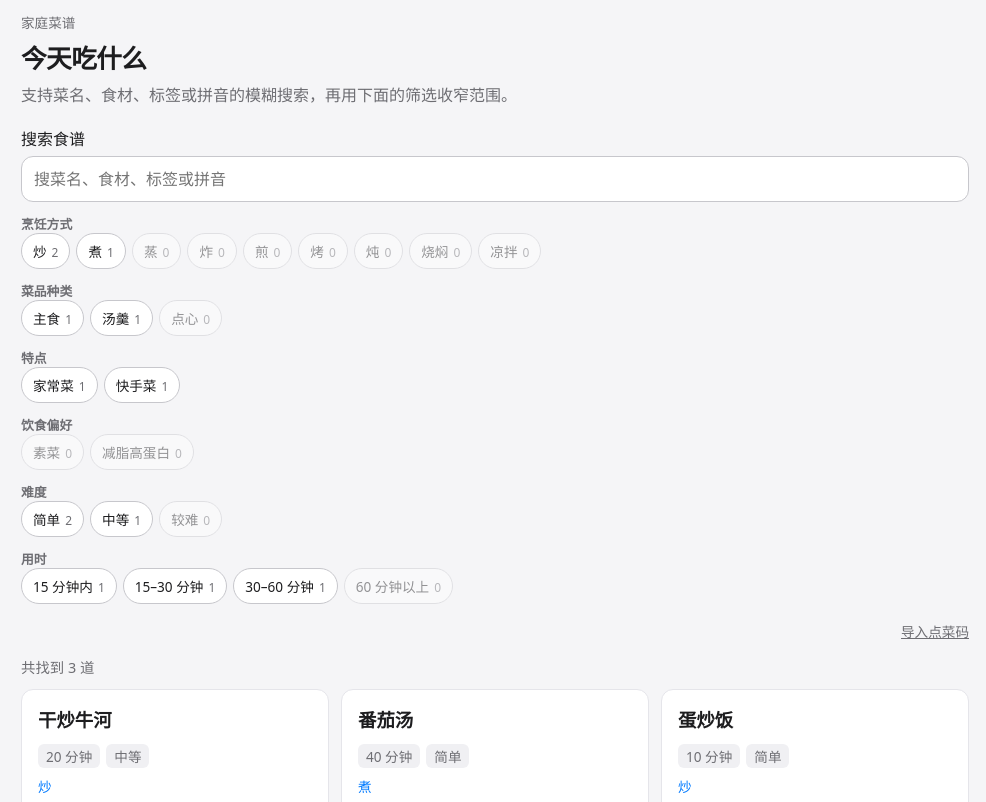
Test case: RecipeBrowser › filters by difficulty and clears everything
Click the button "简单2" at (53, 519), box [21, 501, 84, 537]
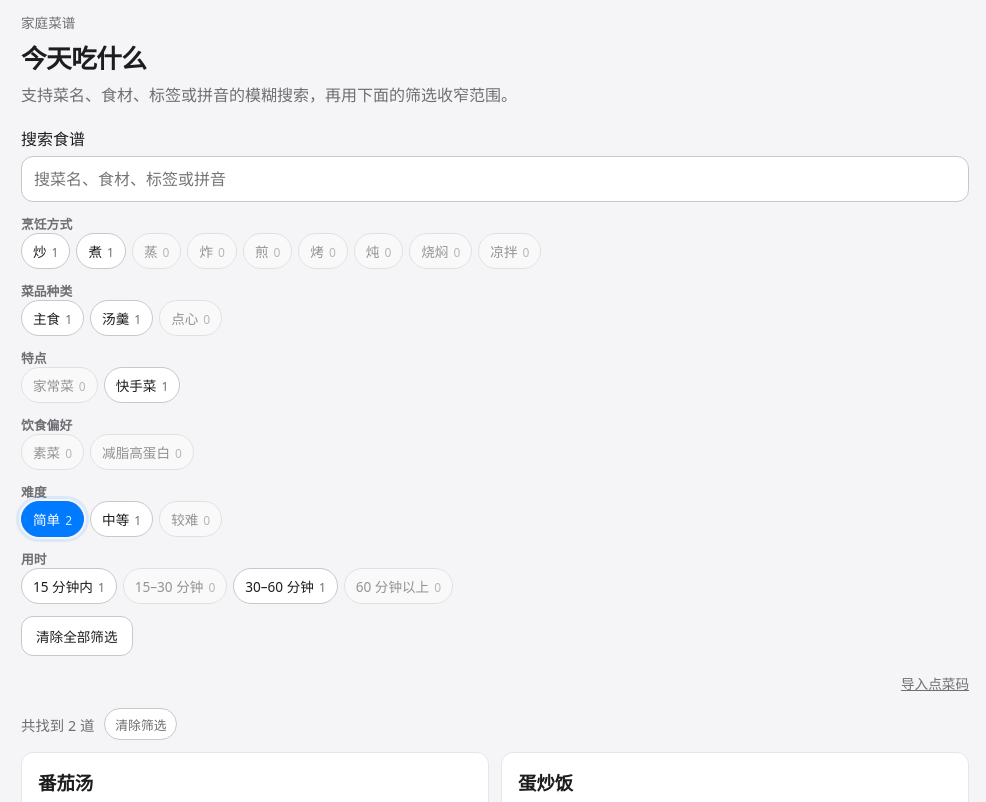
Expected: the heading "番茄汤" is shown, [38, 770, 93, 795]
Expected: the link "干炒牛河" is gone
Click the button "清除全部筛选" at (77, 636), box [21, 616, 133, 656]
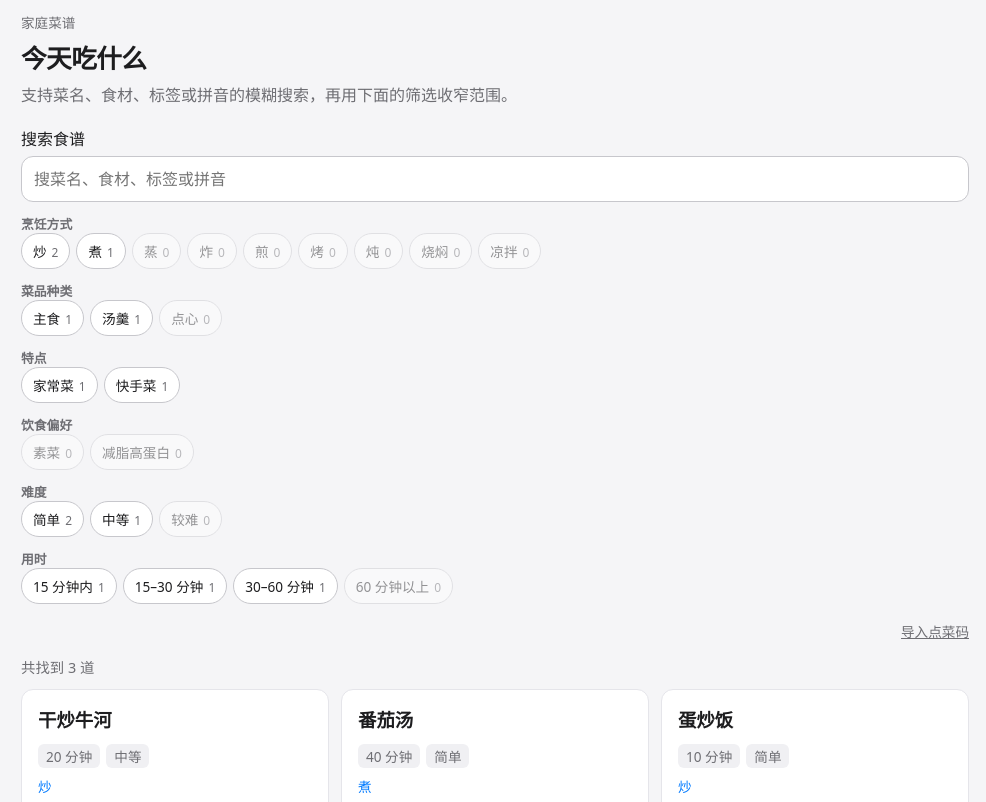
Expected: the heading "干炒牛河" is shown, [38, 707, 112, 732]
